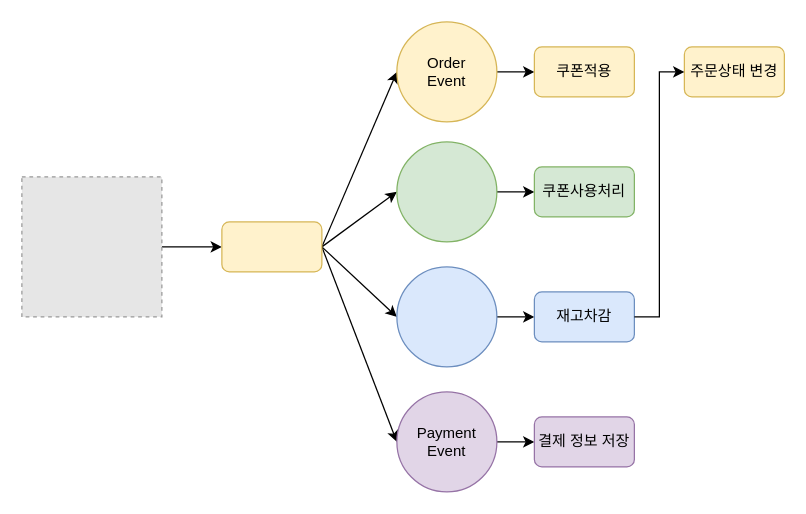
Image size: 806x514. Some labels were removed from this diagram. Grey dashed boxes stand in for pictures. Here are the shapes that lost their labels. From the top down, the centre of each, then its label:
At point (446, 191): "Coupon Event".
At point (271, 246): "주문생성".
At point (446, 316): "Product Event".
